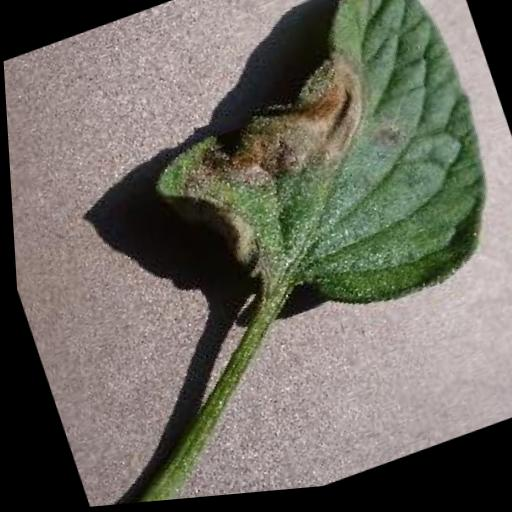Late Blight: (100, 0, 512, 375)
